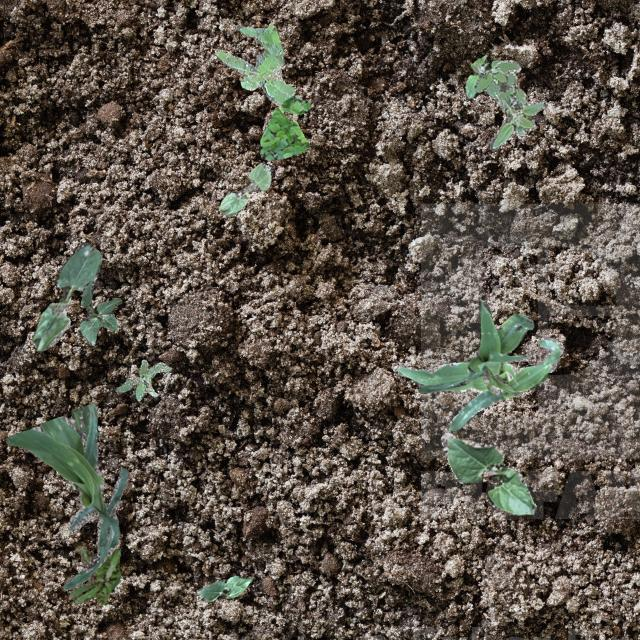crop: (4, 402, 128, 588), (397, 336, 562, 430), (418, 298, 532, 396), (440, 430, 536, 514), (31, 242, 100, 350), (218, 162, 270, 214), (78, 280, 120, 344), (196, 574, 250, 600)
weed: (472, 59, 546, 150), (213, 24, 294, 104), (260, 92, 308, 160), (68, 548, 120, 604), (114, 358, 170, 401), (464, 54, 498, 96)
